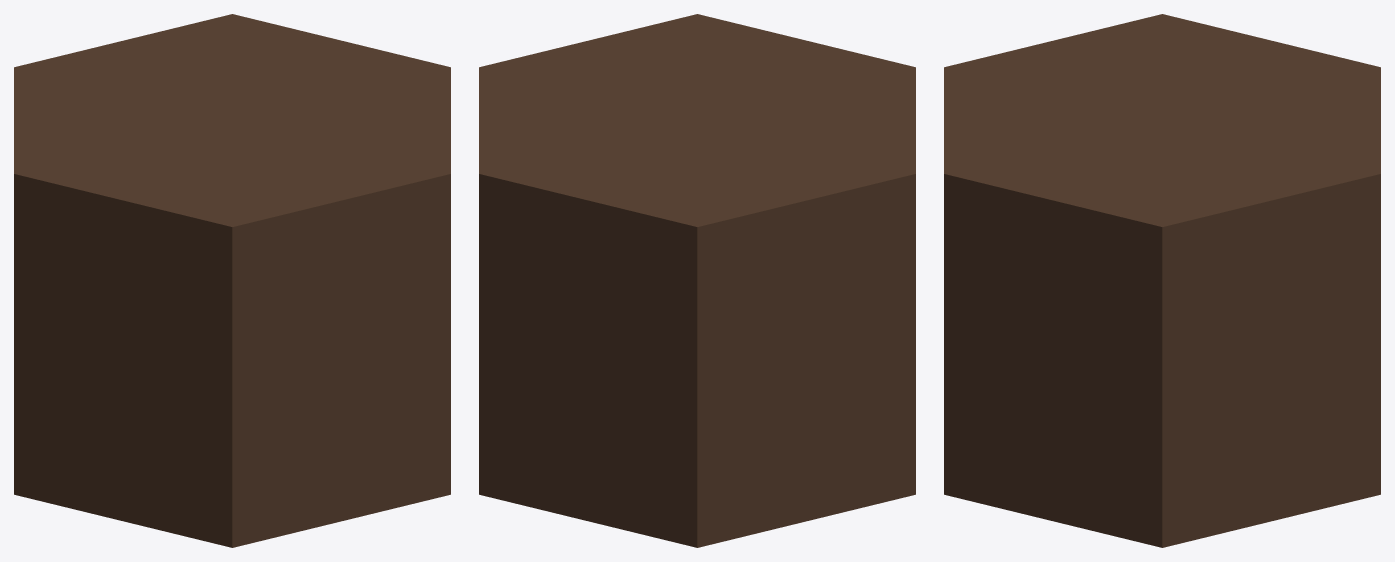
Rendered from SM_Prop_DownPipe_Connector_01.glb.
3 views of the same model, side by side, from view 1: azimuth 30°, elevation 25°; view 2: azimuth 150°, elevation 25°; view 3: azimuth 270°, elevation 25° (orthographic).
Parts seen in each view (by area): view 1: SM_Prop_DownPipe_Connector_01; view 2: SM_Prop_DownPipe_Connector_01; view 3: SM_Prop_DownPipe_Connector_01.
Part boxes in pixels (x1,y1,x2,y2): SM_Prop_DownPipe_Connector_01: [14, 14, 450, 547]; SM_Prop_DownPipe_Connector_01: [479, 14, 915, 547]; SM_Prop_DownPipe_Connector_01: [944, 14, 1380, 547].
Size of the model in its own units: 0.2783 by 0.1953 by 0.241.
Materials: 1 (1 with a texture image).
